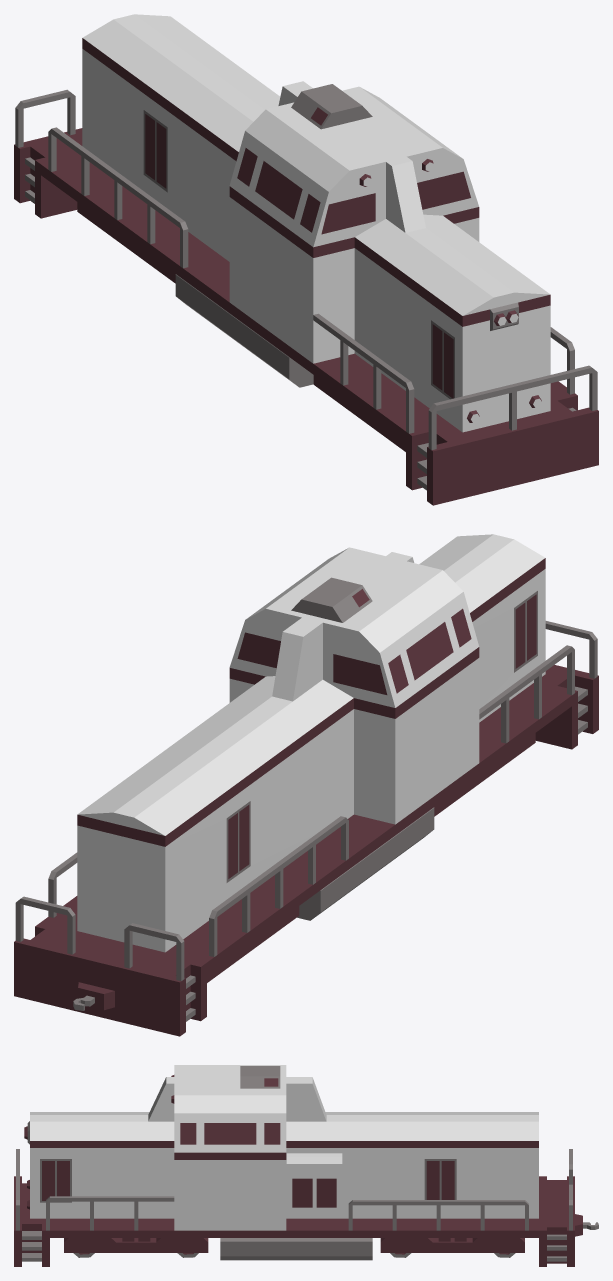
File: freight-train.fbx
3 views of the same model, one above another, from view 1: azimuth 30°, elevation 25°; view 2: azimuth 150°, elevation 25°; view 3: azimuth 270°, elevation 25° (orthographic). The views are drawn at different scales.
Parts seen in each view (by area): view 1: freight-train-base, freight-train-wheel-frame_B, freight-train-wheel-frame_F; view 2: freight-train-base, freight-train-wheel-frame_F, freight-train-wheel-frame_B; view 3: freight-train-base, freight-train-wheel-frame_B, freight-train-wheel-frame_F.
Part boxes in pixels (<box>): freight-train-base: <box>14,14,598,505</box>; freight-train-wheel-frame_B: <box>77,202,175,283</box>; freight-train-wheel-frame_F: <box>313,375,405,451</box>; freight-train-base: <box>14,534,598,1036</box>; freight-train-wheel-frame_F: <box>434,733,535,816</box>; freight-train-wheel-frame_B: <box>207,906,299,982</box>; freight-train-base: <box>14,1065,598,1266</box>; freight-train-wheel-frame_B: <box>380,1238,524,1252</box>; freight-train-wheel-frame_F: <box>64,1238,208,1252</box>.
Bounding box in the file's own units: 3.2 × 4.81 × 14.6.
